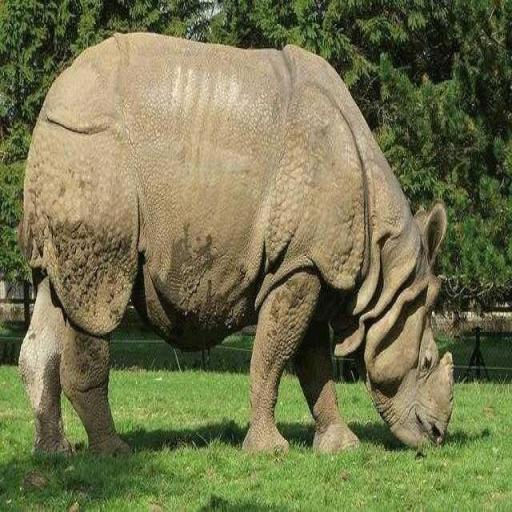Rhino: (16, 29, 455, 461)
